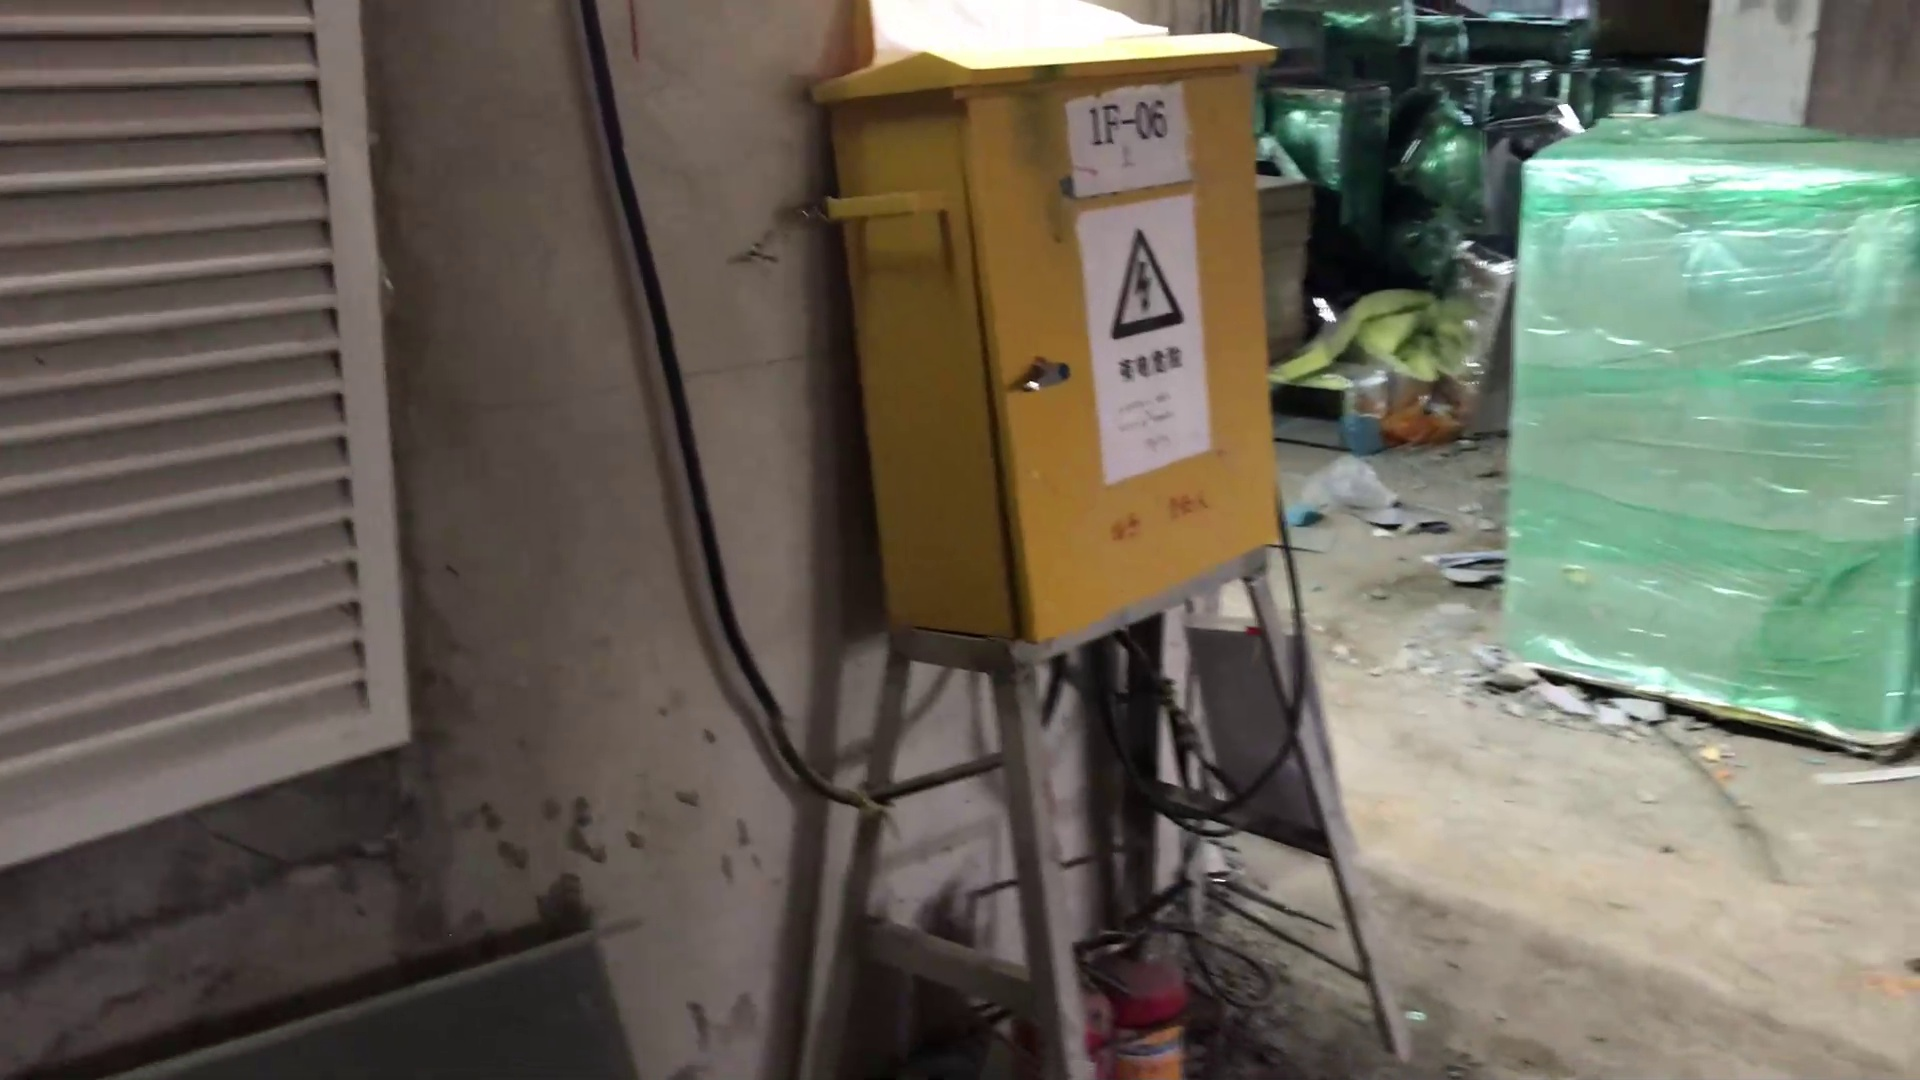ebox: (793, 5, 1411, 1080)
